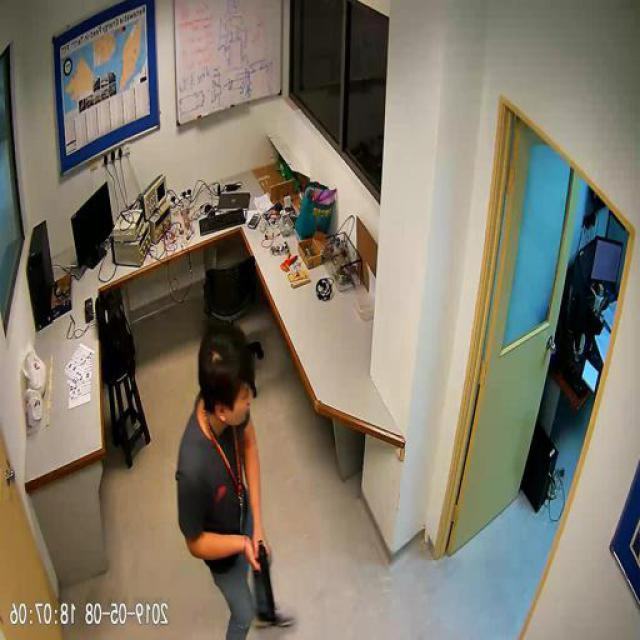weapon: (253, 542, 280, 623)
